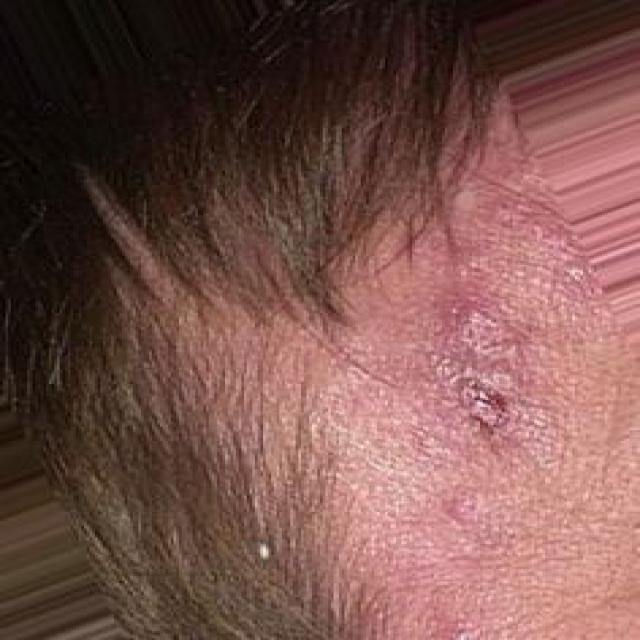Rosacea: (338, 138, 609, 618)
